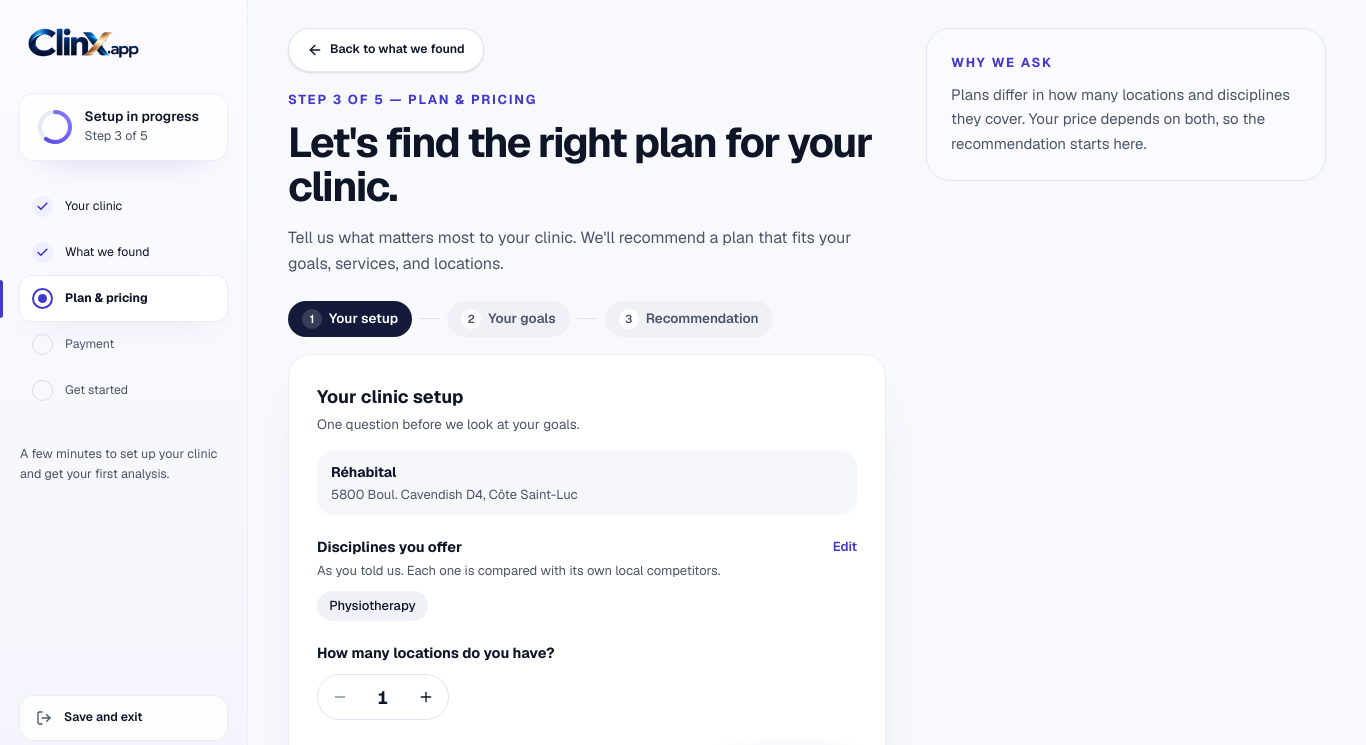
Test: Plan & pricing questions › starts with the clinic, its disciplines and a locations stepper that stops at 1
Expected: the text "Step 3 of 5 — Plan & pricing" is shown, [288,90,537,108]
Expected: the heading "Let's find the right plan for your clinic." is shown, [288,120,886,209]
What coordinates should you click on to do the following:
click the button named "More locations"
I would click on:
 (426, 697)
Its box is [404,675,448,719].
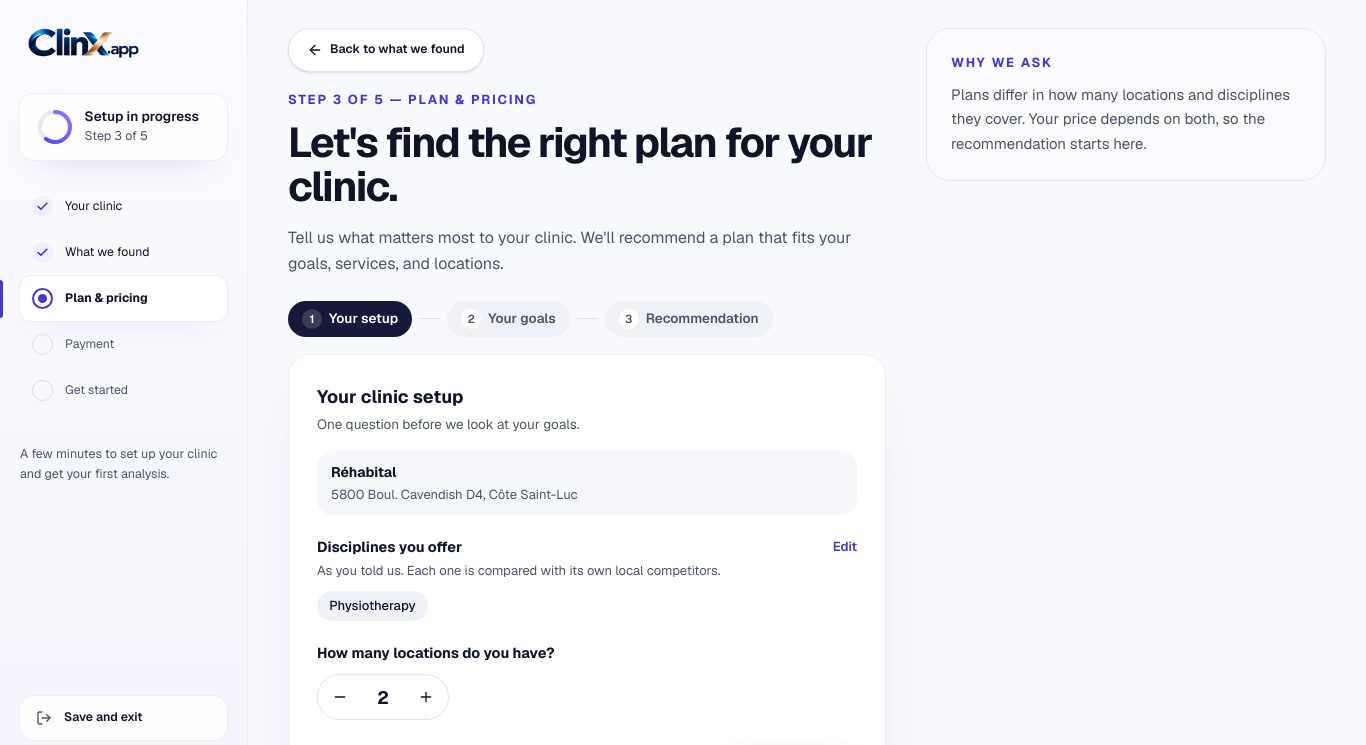
Expected: the text "2" below "How many locations do you have?" is shown, [377,686,389,708]
